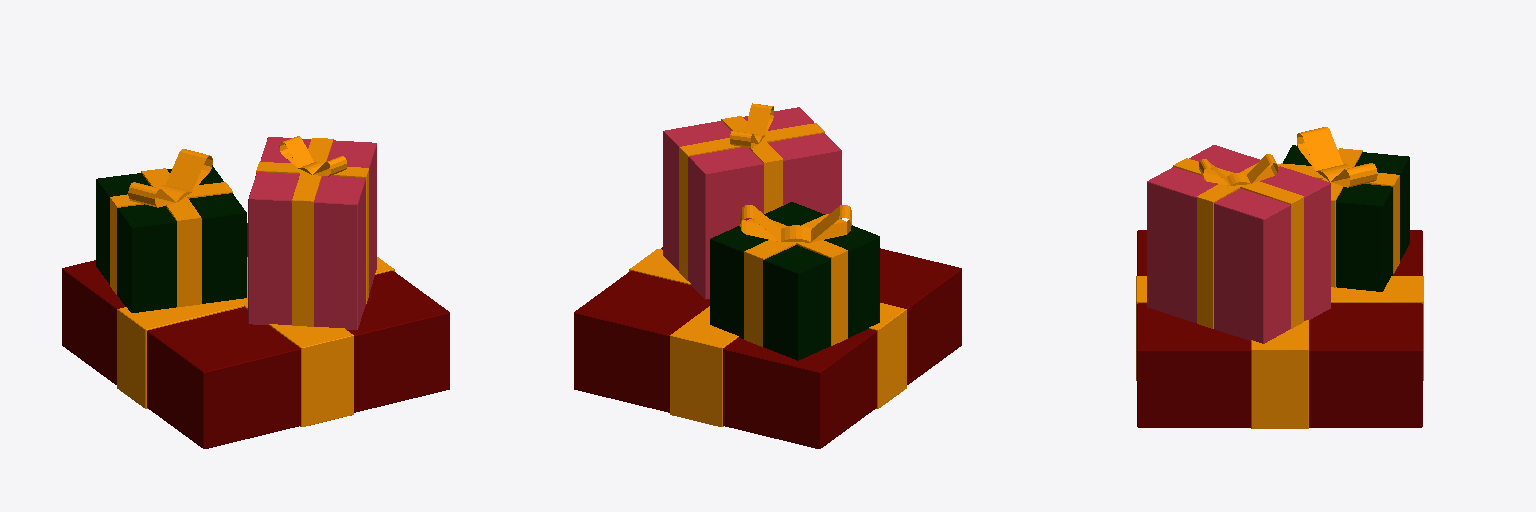
Rendered from presents_2023.obj.
3 views of the same model, side by side, from view 1: azimuth 30°, elevation 25°; view 2: azimuth 150°, elevation 25°; view 3: azimuth 270°, elevation 25° (orthographic).
Parts seen in each view (by area): view 1: 1, 0, 3, 2; view 2: 1, 0, 3, 2; view 3: 1, 3, 0, 2.
Part boxes in pixels (x1,y1,x2,y2): 1: (62,223,449,448); 0: (110,136,394,426); 3: (248,137,376,329); 2: (96,165,246,312); 1: (574,247,961,448); 0: (629,103,906,426); 3: (663,107,841,299); 2: (710,202,879,360); 1: (1137,230,1422,427); 3: (1147,145,1330,343); 0: (1136,127,1423,428); 2: (1283,145,1409,291).
Size of the model in its own units: 0.5844 by 0.5079 by 0.5844.